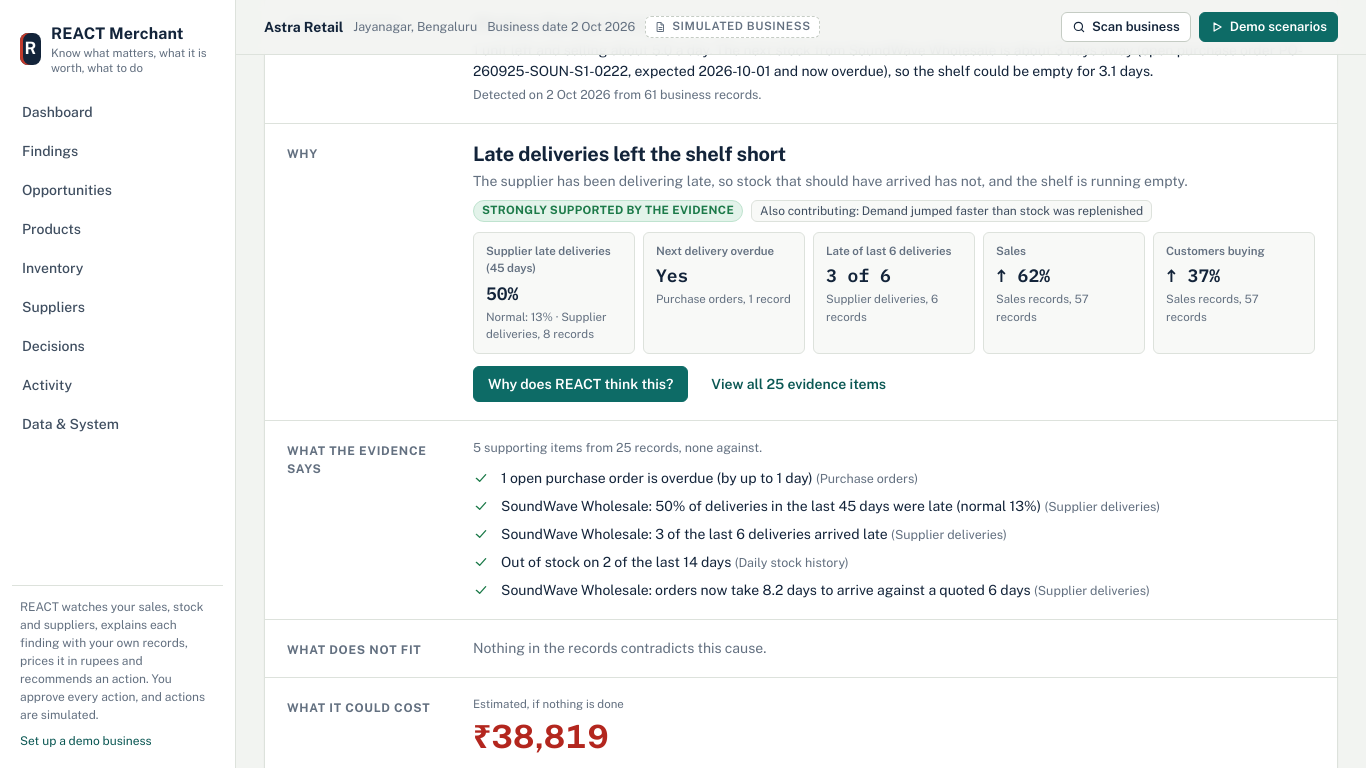
Scenario: Investigation (case) page › answers WHY in plain language and links to the evidence
(page scrolled)
Click the button "Why does REACT think this?" at (581, 384), box [473, 366, 688, 402]
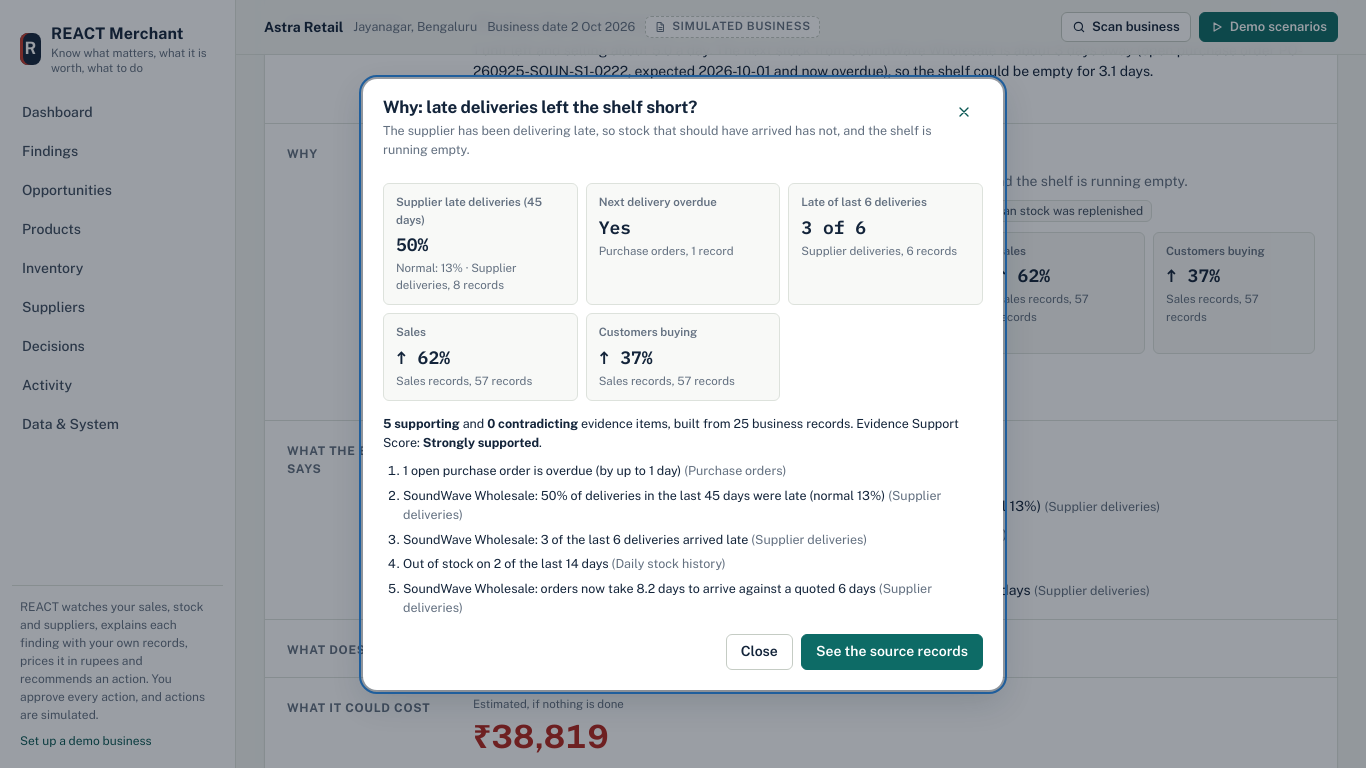
Result: the text "Strongly supported" is shown at [423, 434, 539, 450]
Click the button "See the source records" at (892, 652), box [801, 634, 983, 670]
(page scrolled)
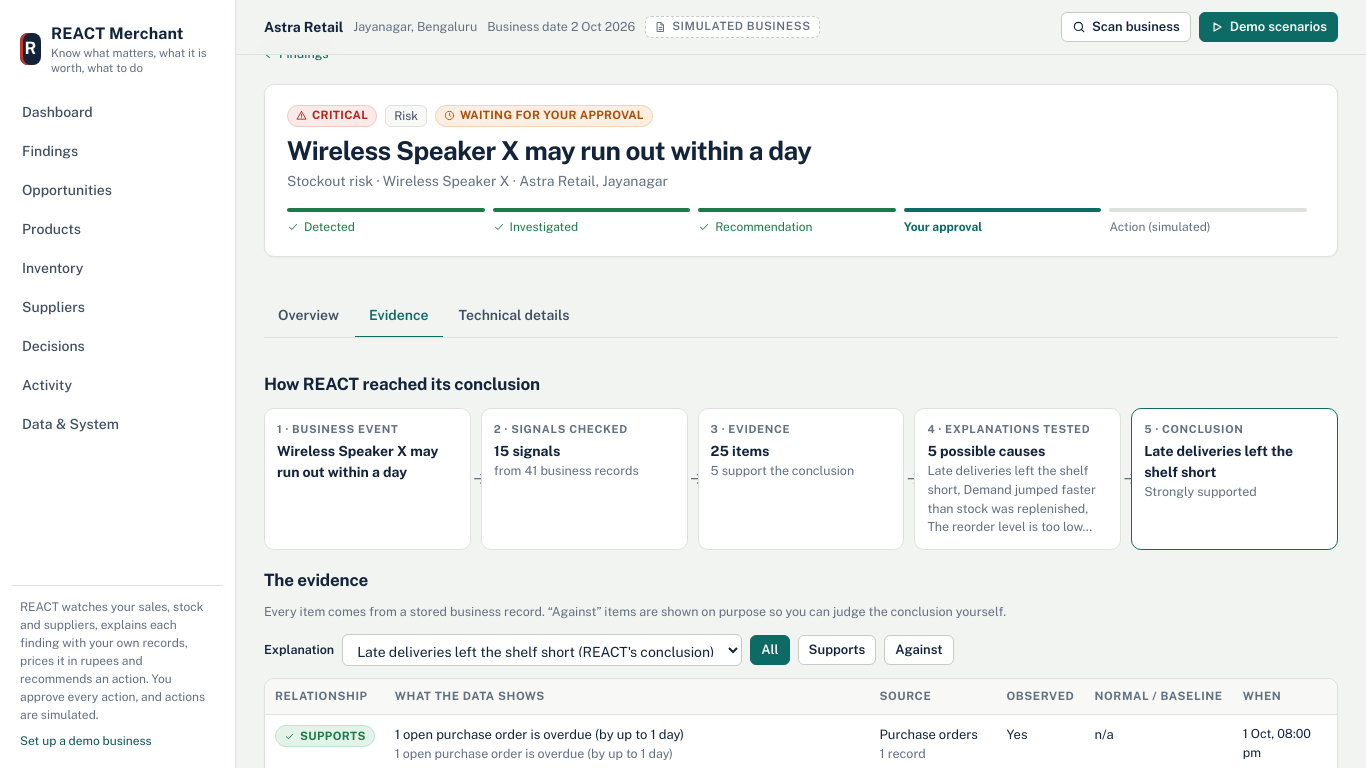
Result: the heading "How REACT reached its conclusion" is shown at [264, 374, 540, 394]
